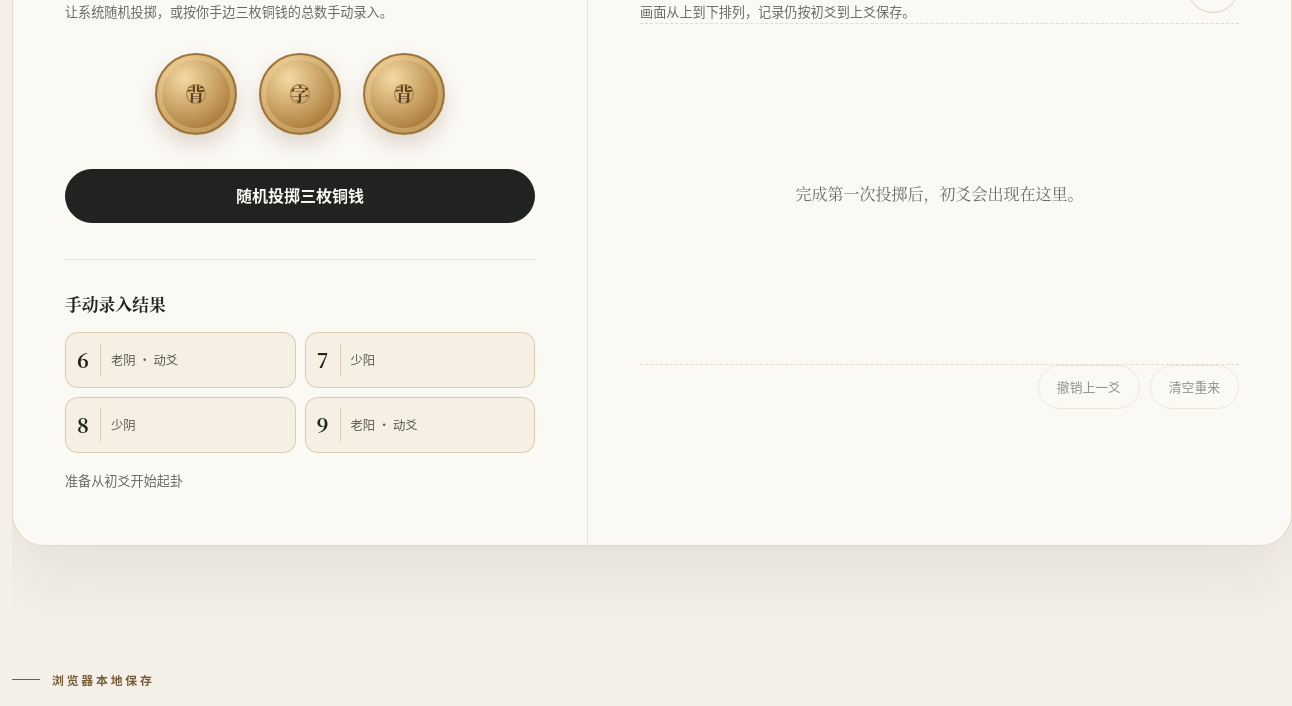
Test: CastingExperience › cancels an in-flight random toss when the experience unmounts
(page scrolled)
Click the button "少阳 7" at (420, 360), box [304,332,535,388]
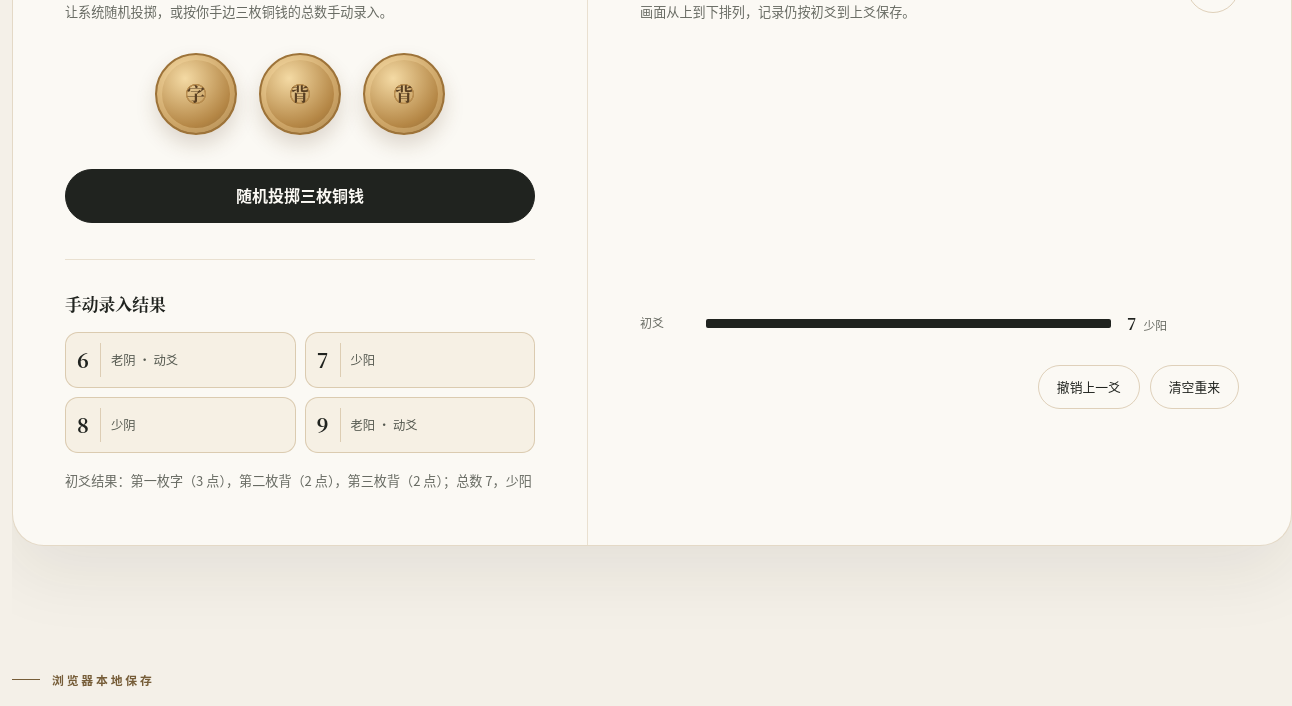
Click the button "少阳 7" at (420, 360), box [304,332,535,388]
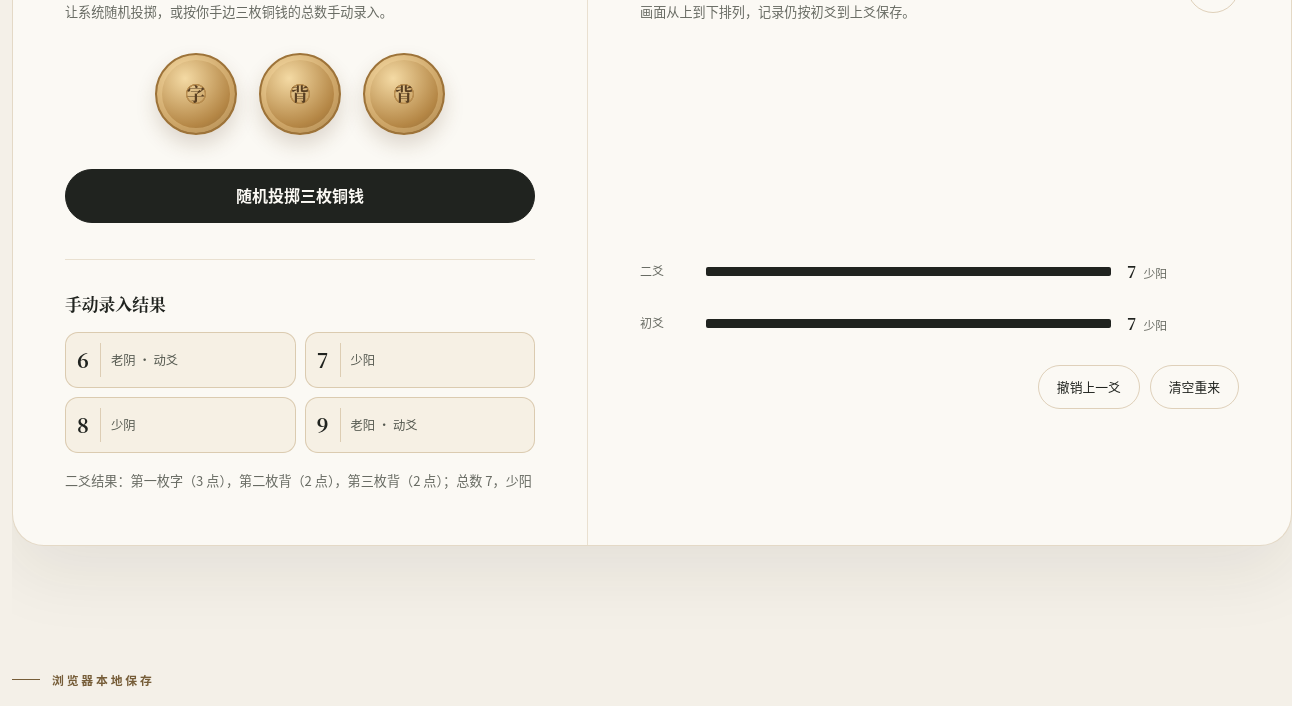
Click the button "少阳 7" at (420, 360), box [304,332,535,388]
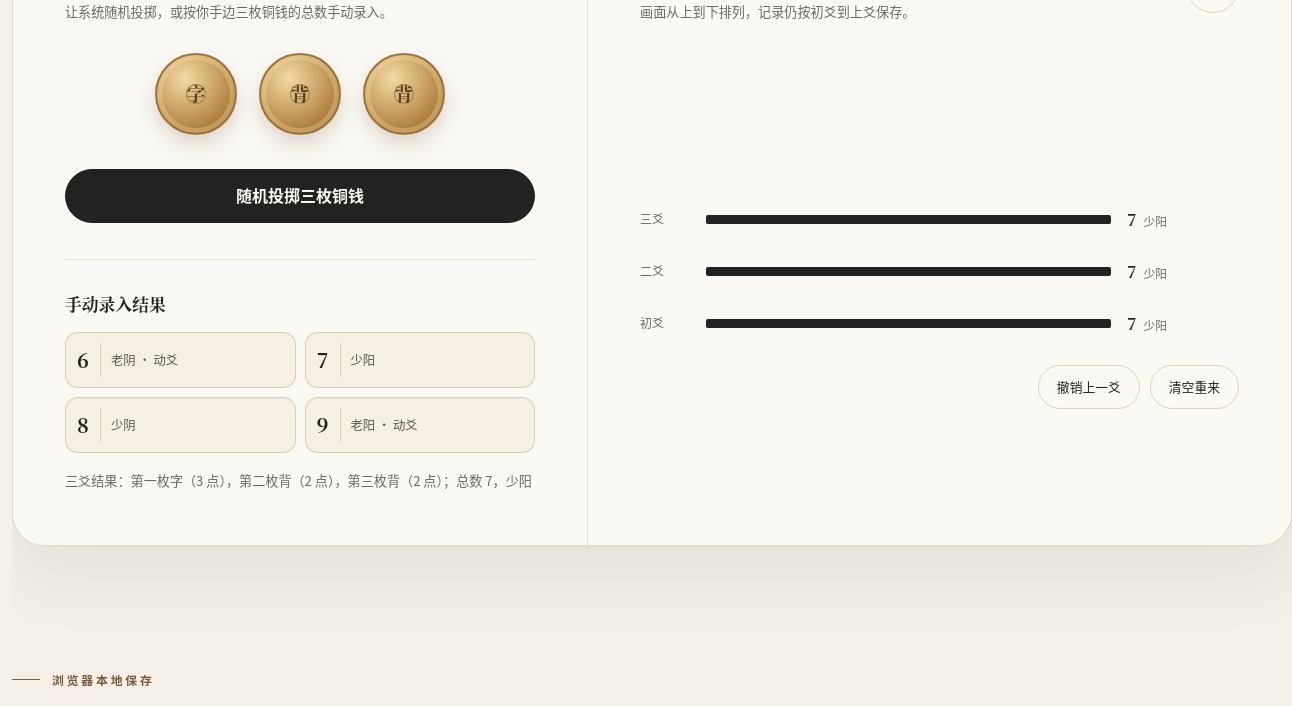
Click the button "少阳 7" at (420, 360), box [304,332,535,388]
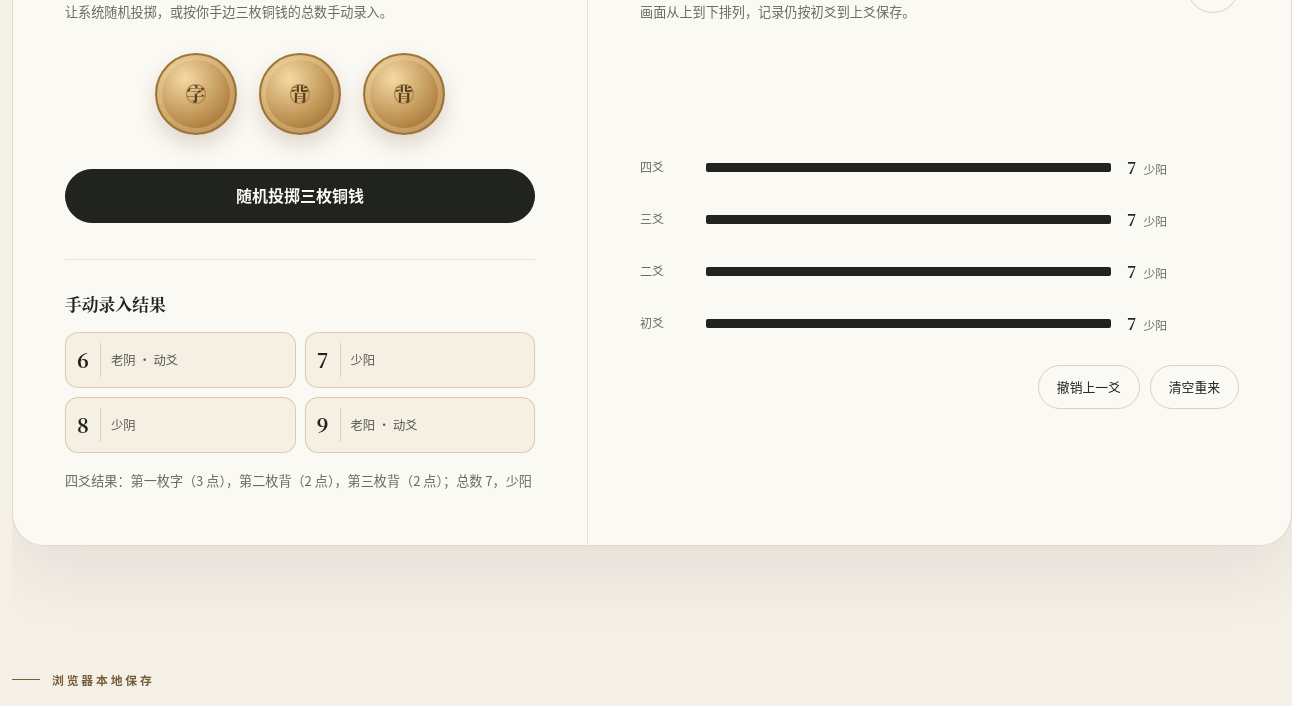
Click the button "少阳 7" at (420, 360), box [304,332,535,388]
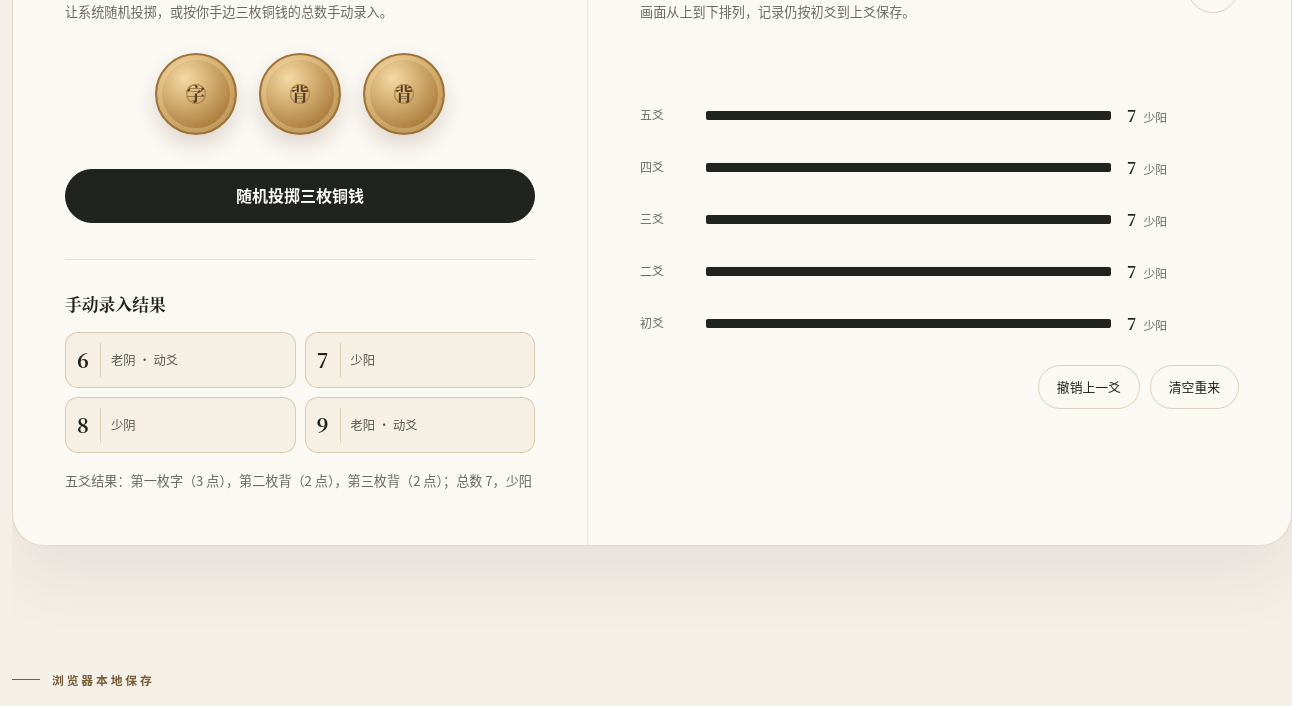
Click the button "随机投掷三枚铜钱" at (300, 196), box [65,169,535,223]
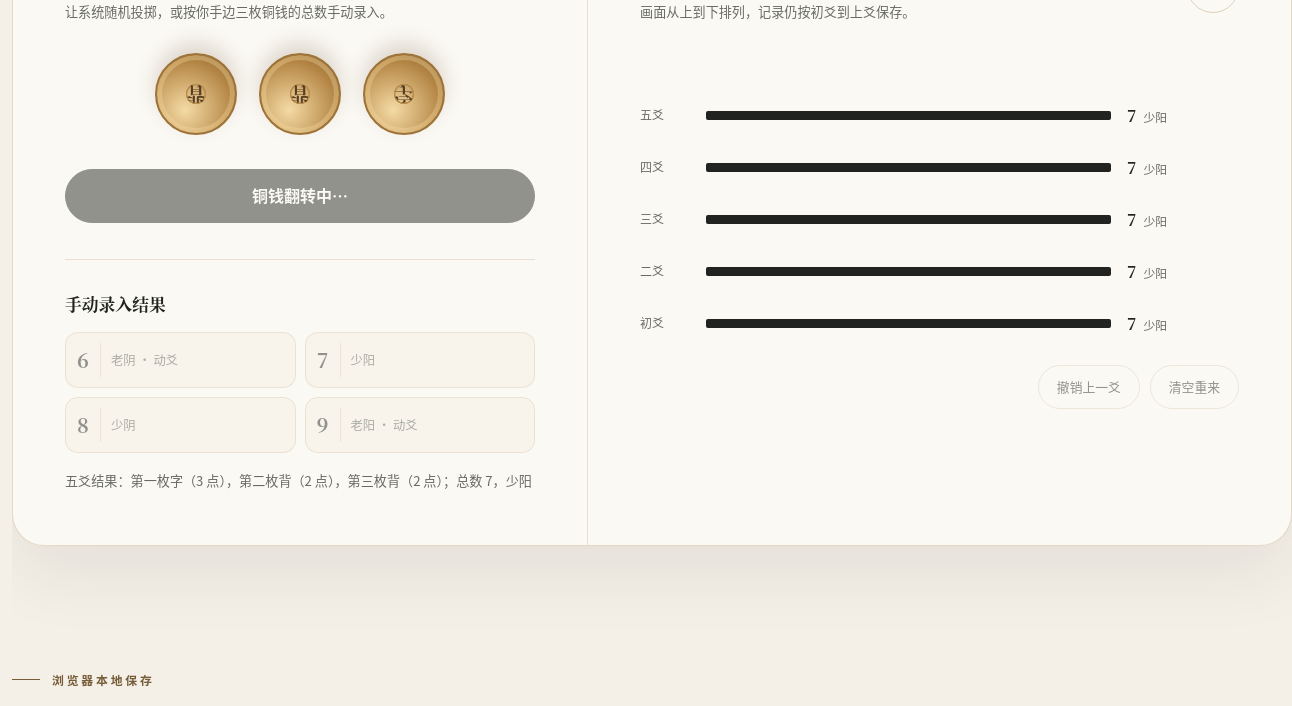
Now the button "铜钱翻转中…" is disabled, box [65,169,535,223]
